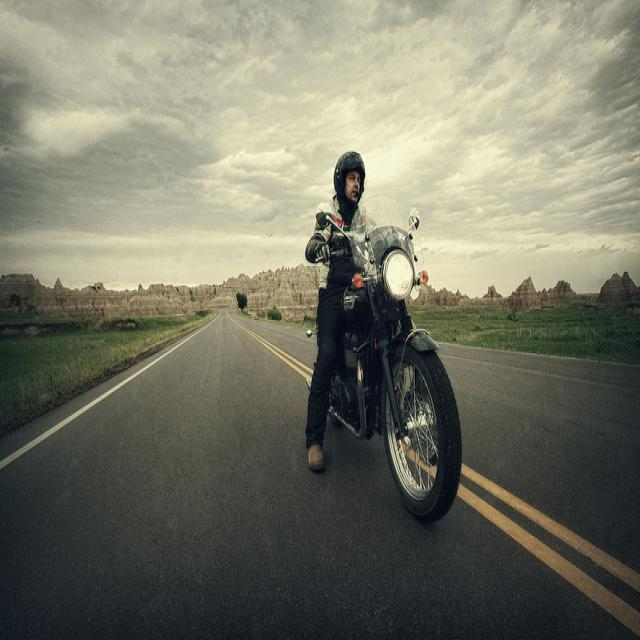motor: (316, 212, 455, 521)
